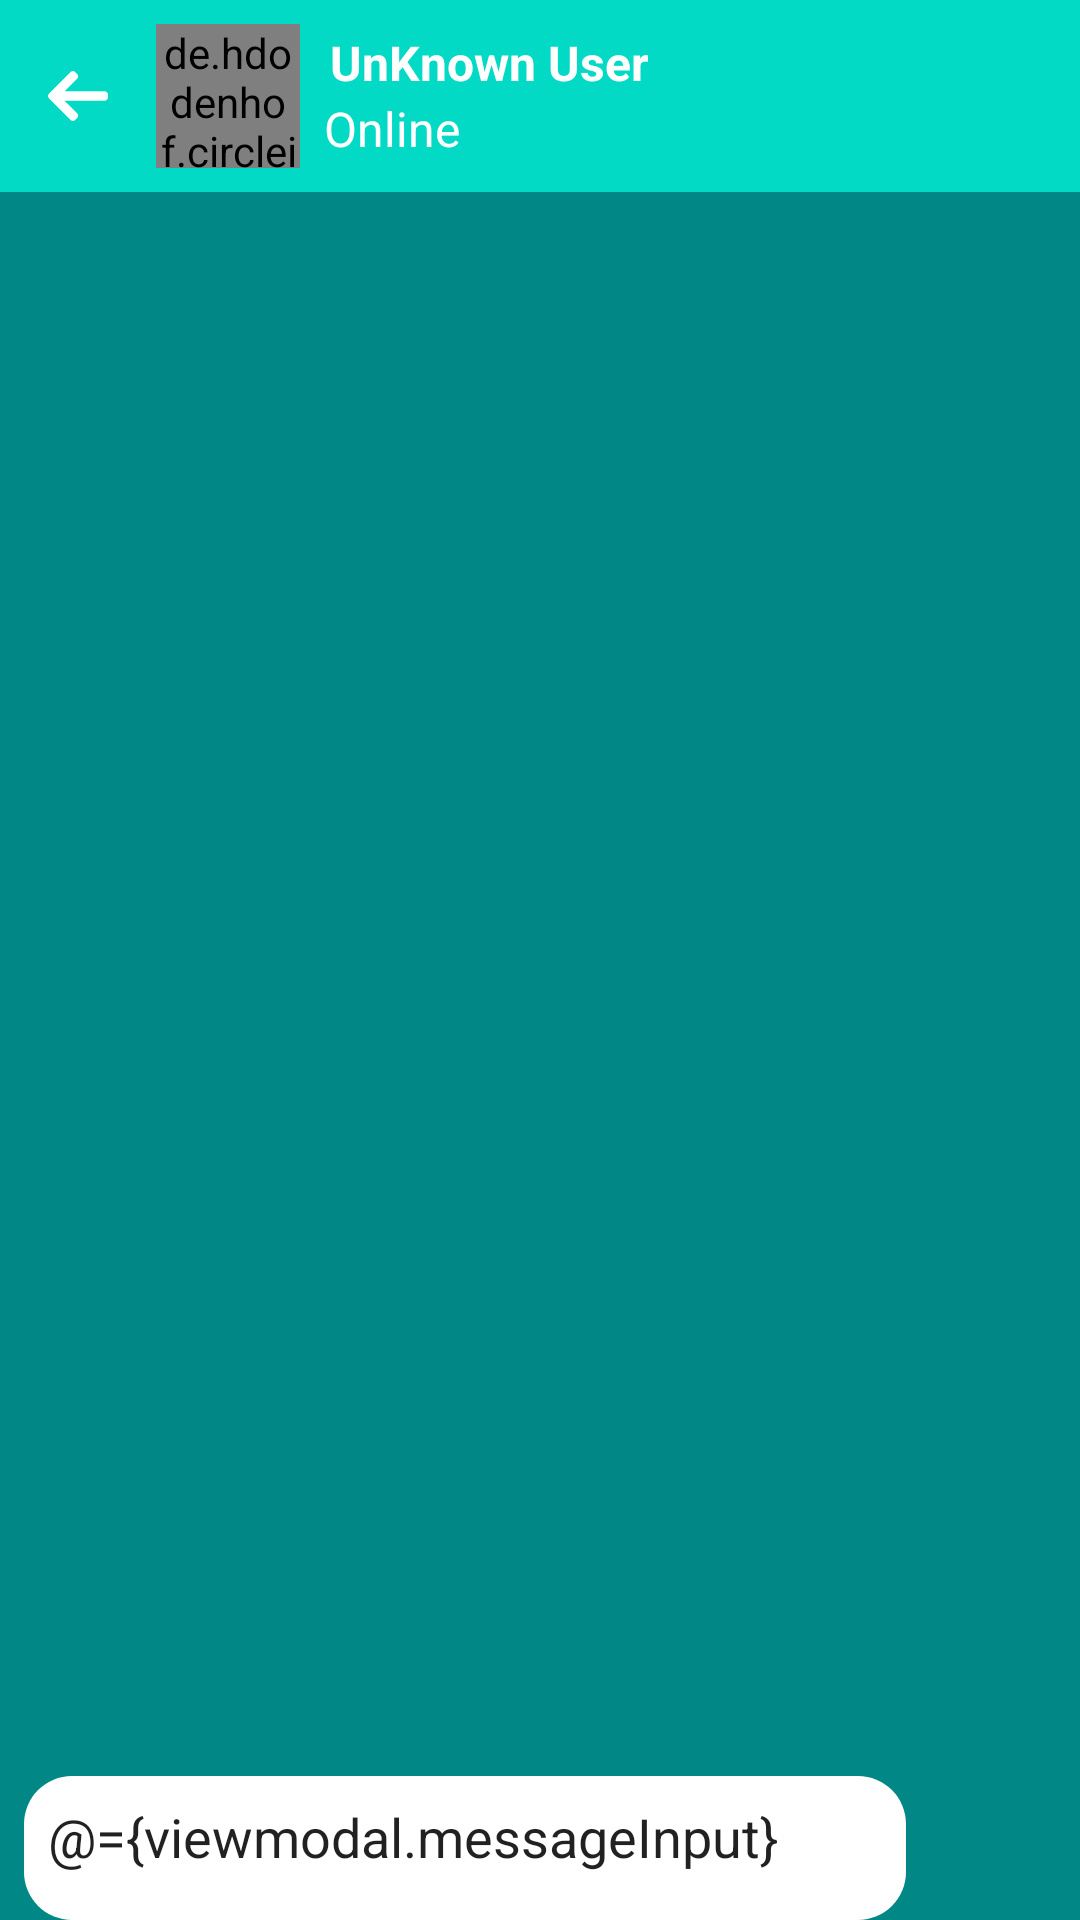

Named icons in this screenshot (1080*1920) and their centers, (x=x, y=y):
arrow back: (x=78, y=96)
